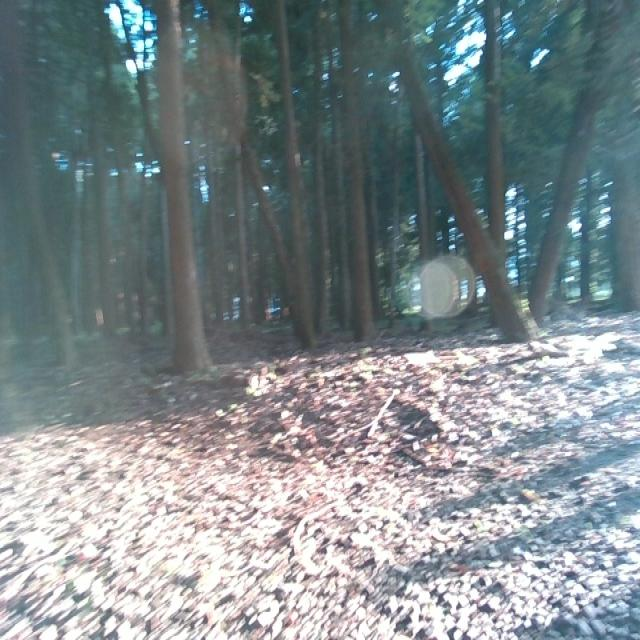tree: (397, 0, 541, 348), (214, 0, 323, 341), (0, 0, 84, 364), (532, 0, 612, 317), (152, 0, 217, 373), (333, 0, 378, 336), (609, 0, 640, 320)
